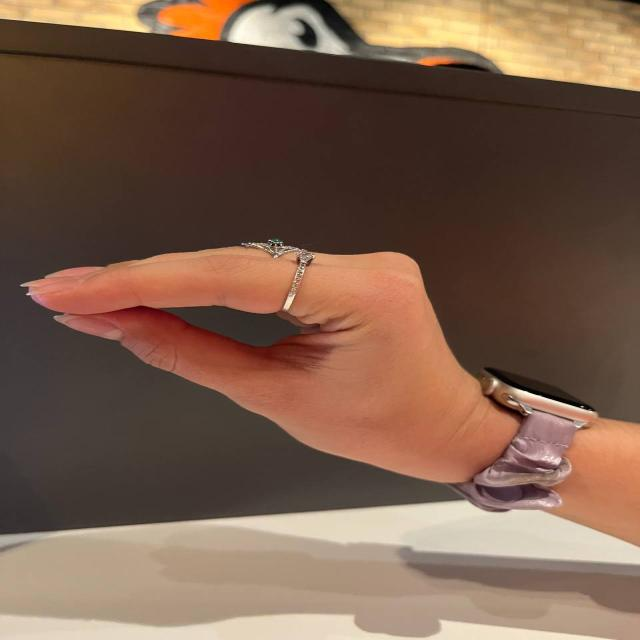zh: (27, 227, 469, 435)
